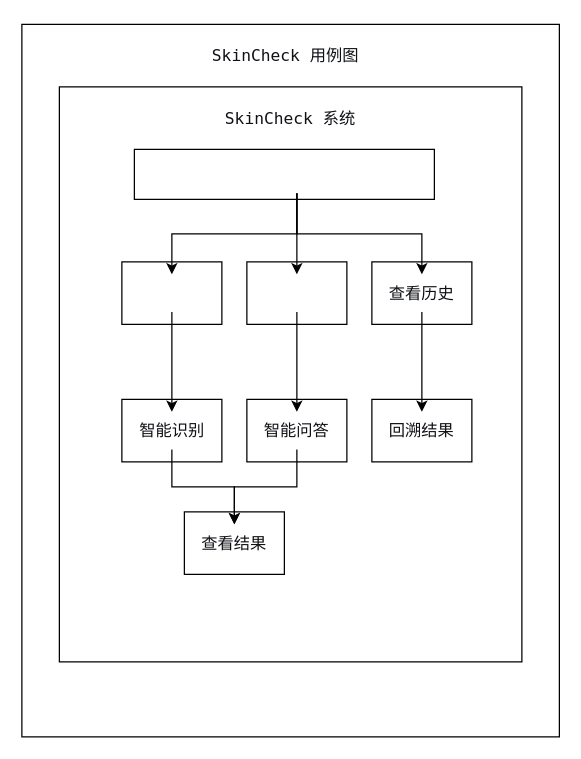
Image size: 581x759. Some labels were removed from this diagram. The shapes that lost their labels are listed below. From the top down, each one's centre as x and y in pixels, then its label:
At [283,173]: "用户（普通家庭用户）".
At [171,292]: "上传图片".
At [296,292]: "查询百科".
